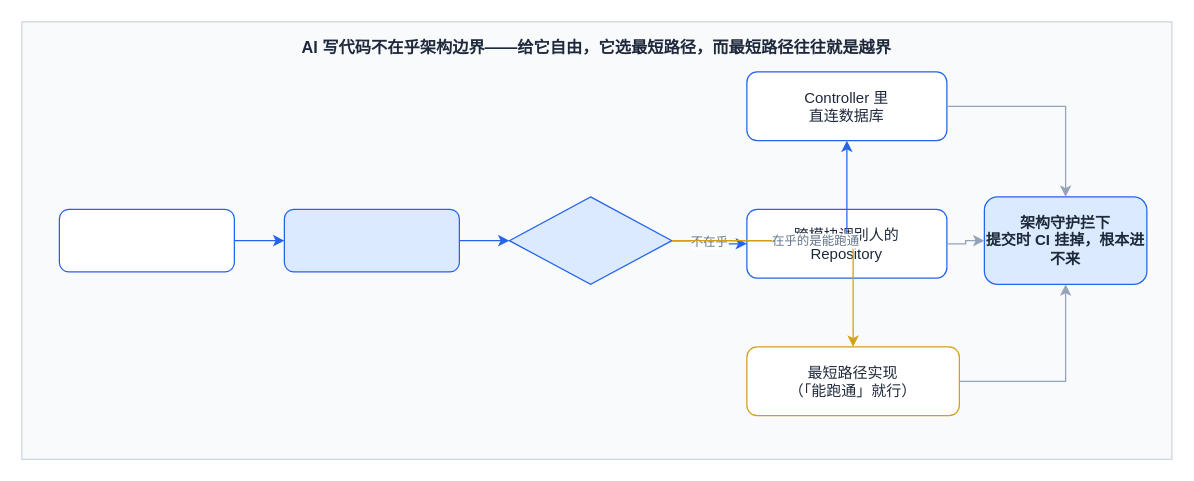
Some shapes in this 1194 by 481 pixel diagram are drawn without their labels. Each missing label, with the box of its shape:
AI 在乎 架构吗?: (508, 196, 672, 284)
AI 生成代码: (283, 208, 459, 272)
我：实现 X 功能: (58, 208, 234, 272)
